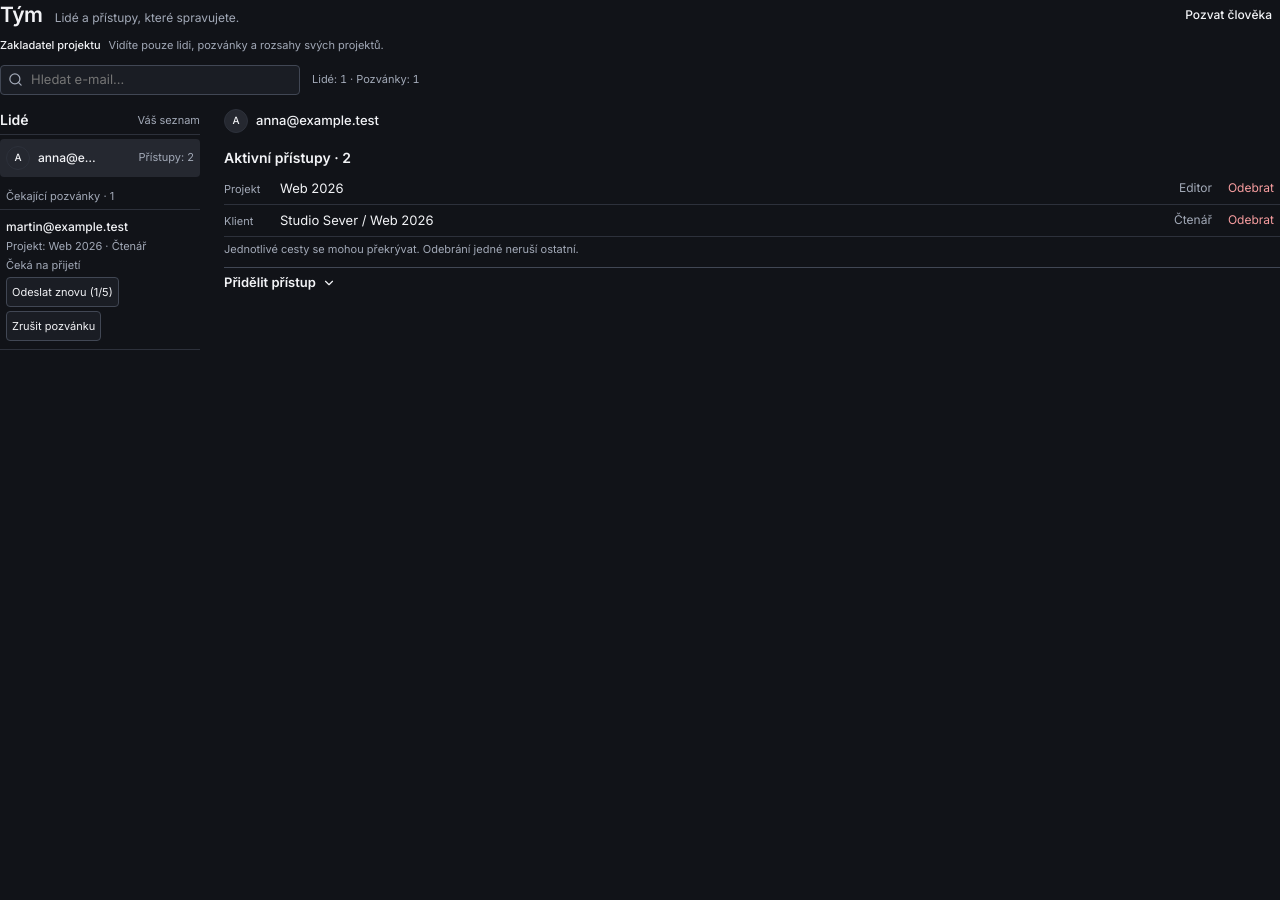
Test: approved compact team workspace › requires confirmation for revocation and keeps the remaining project grant
This screenshot has width=1280, height=900.
Click the button with aria-label "Odebrat přístup: Studio Sever / Web 2026" at (1251,220), box [1222,205,1279,235]
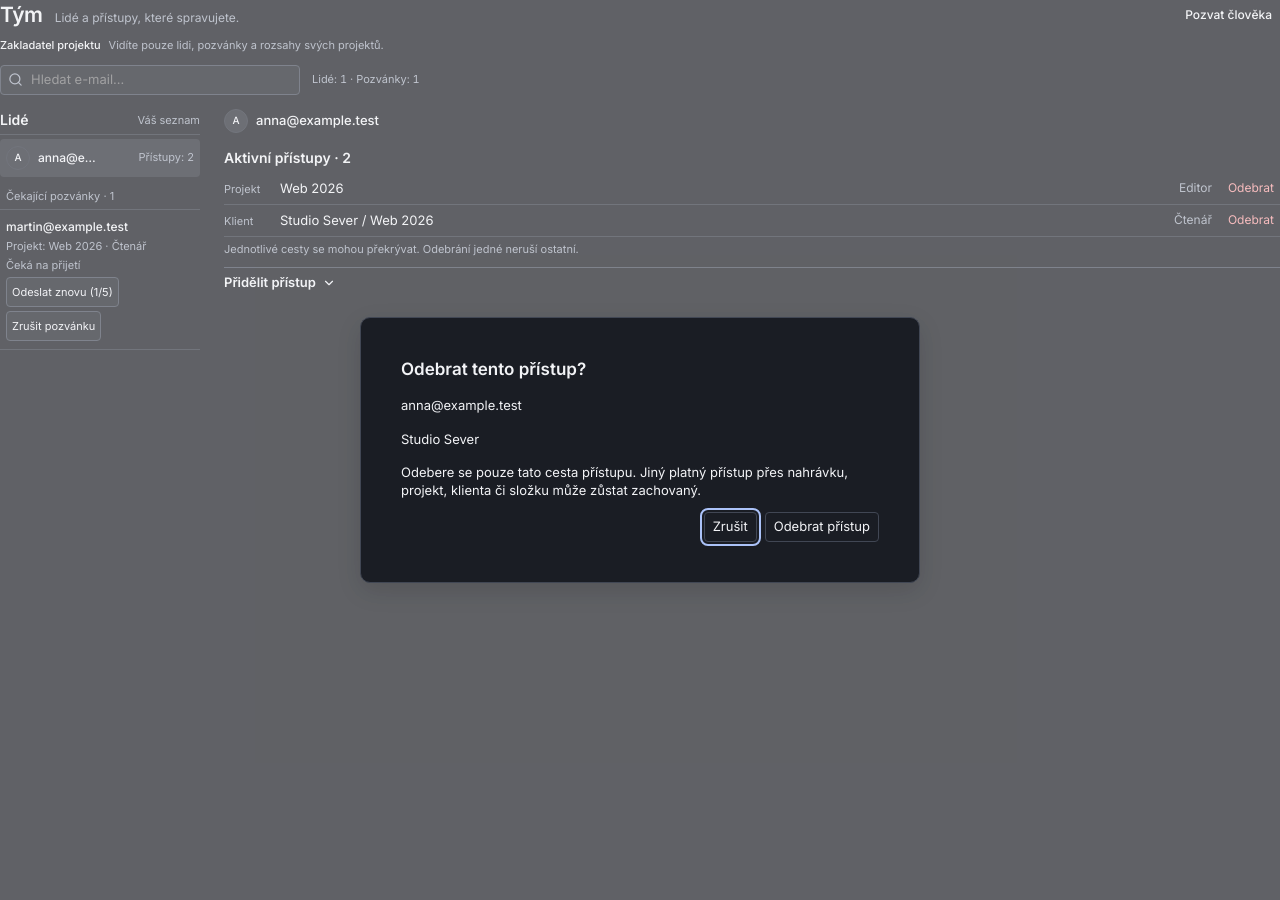
Expected: the dialog shows "Jiný platný přístup", [401,464,848,498]
Click the button "Odebrat přístup" at (822,527), box [765,512,879,542]
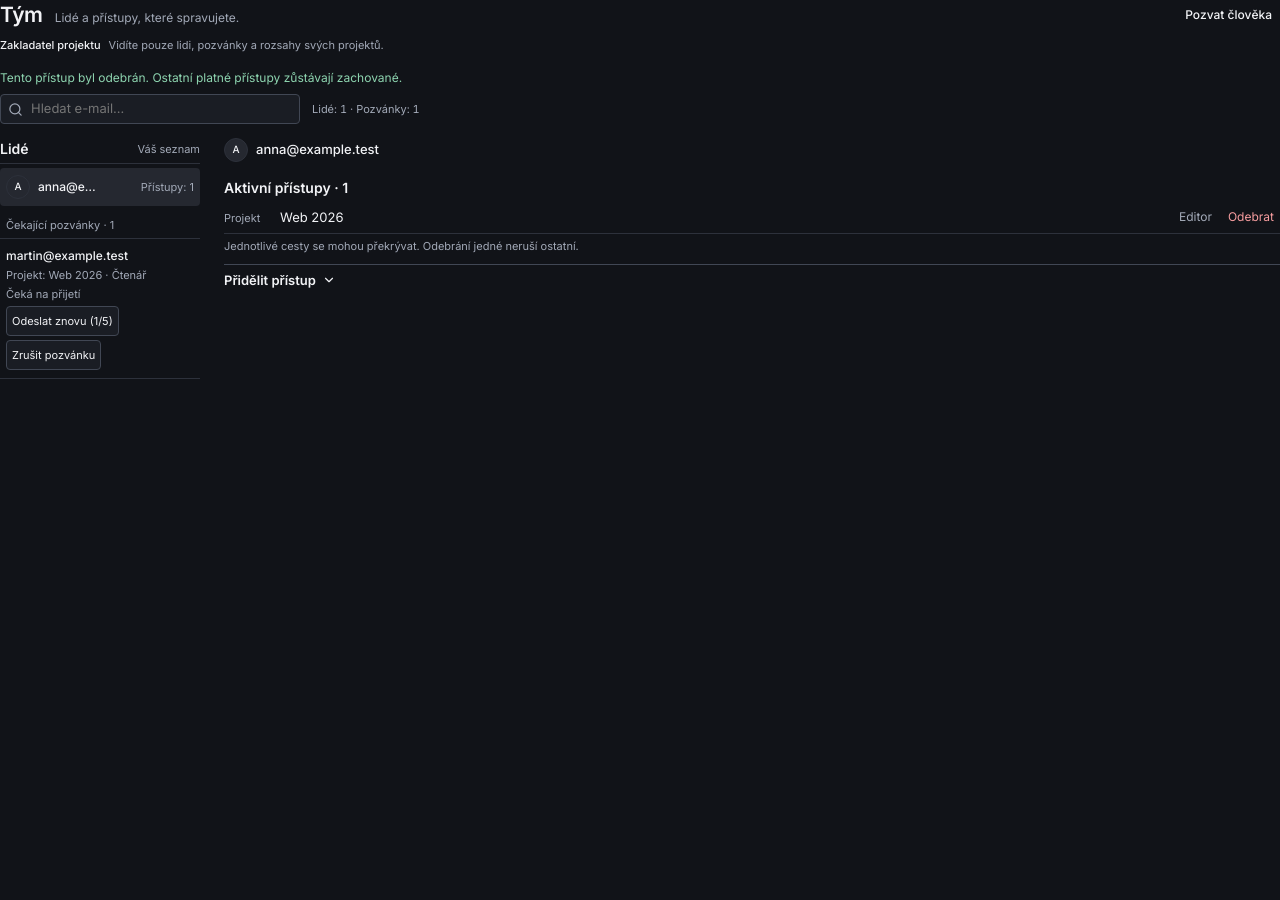
Expected: the text "Web 2026" is shown, [6,268,102,282]
Expected: the text "Aktivní přístupy · 1" is shown, [224,179,348,198]
